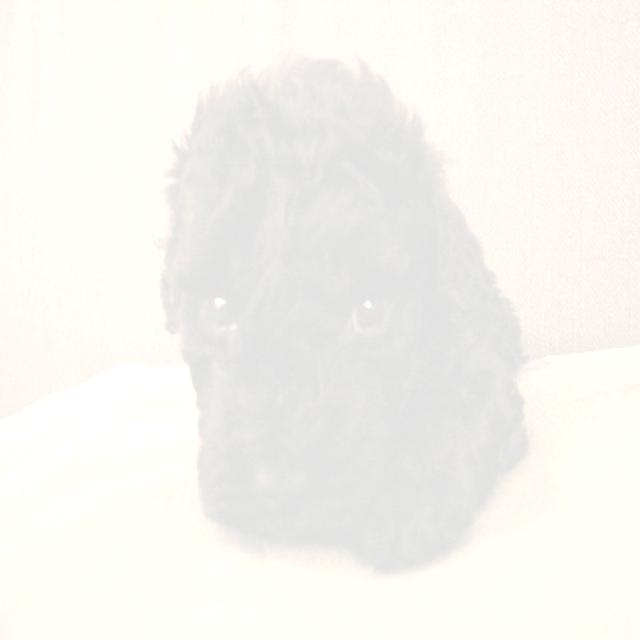Dog: (124, 55, 560, 593)
